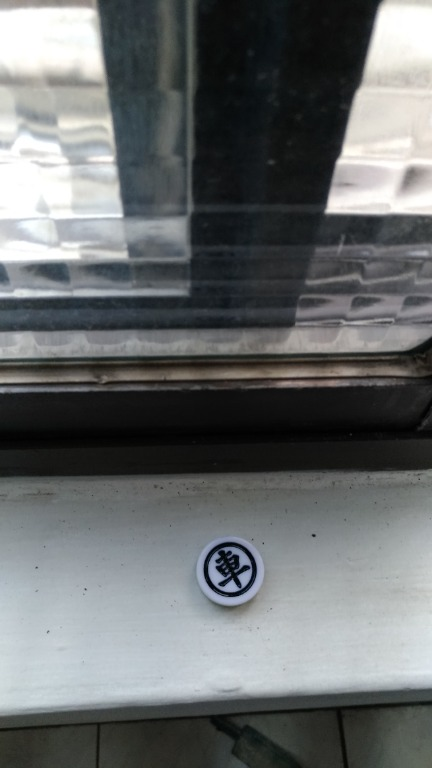b-king: (188, 528, 292, 615)
